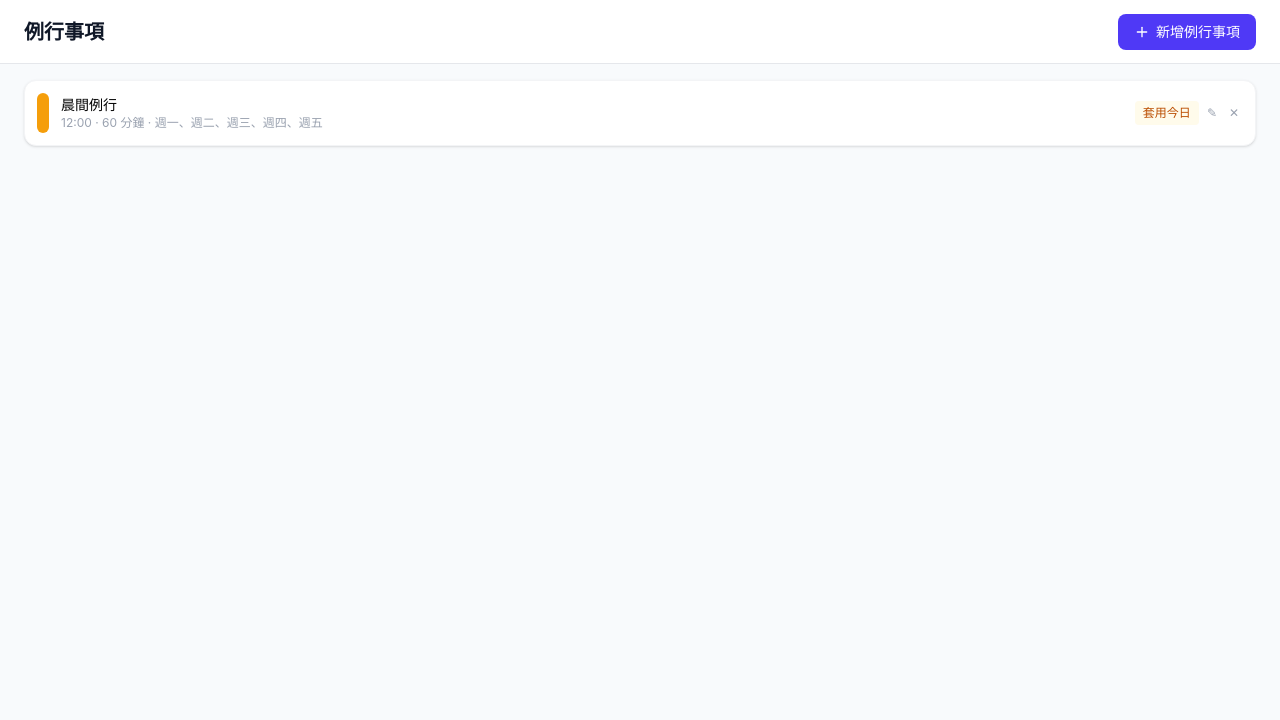
Test case: RoutinesPage › 點擊編輯按鈕開啟編輯 Modal
Expected: the text "晨間例行" is shown, top-left (61, 96), bottom-right (117, 113)
# 點擊編輯（✎）按鈕
Click the button "✎": (1212, 113) top-left (1203, 101), bottom-right (1221, 125)
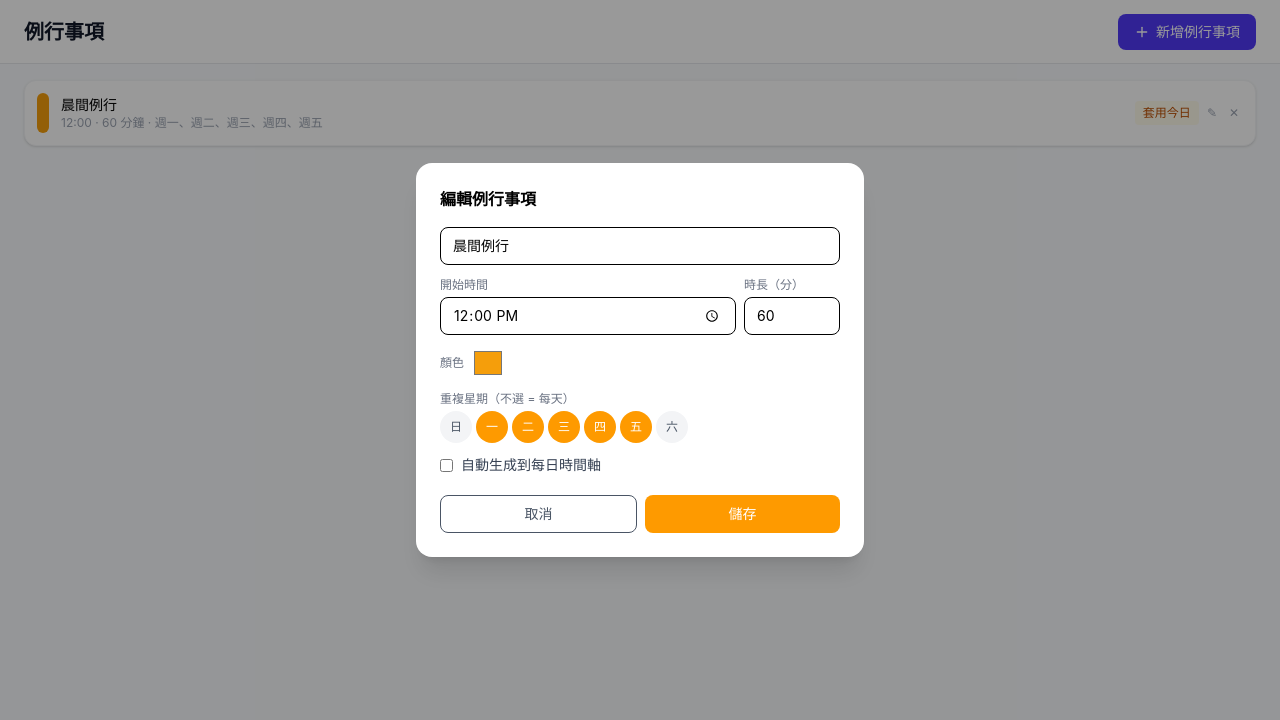
Now the heading "編輯例行事項" is shown, box top-left (440, 189), bottom-right (536, 209)
